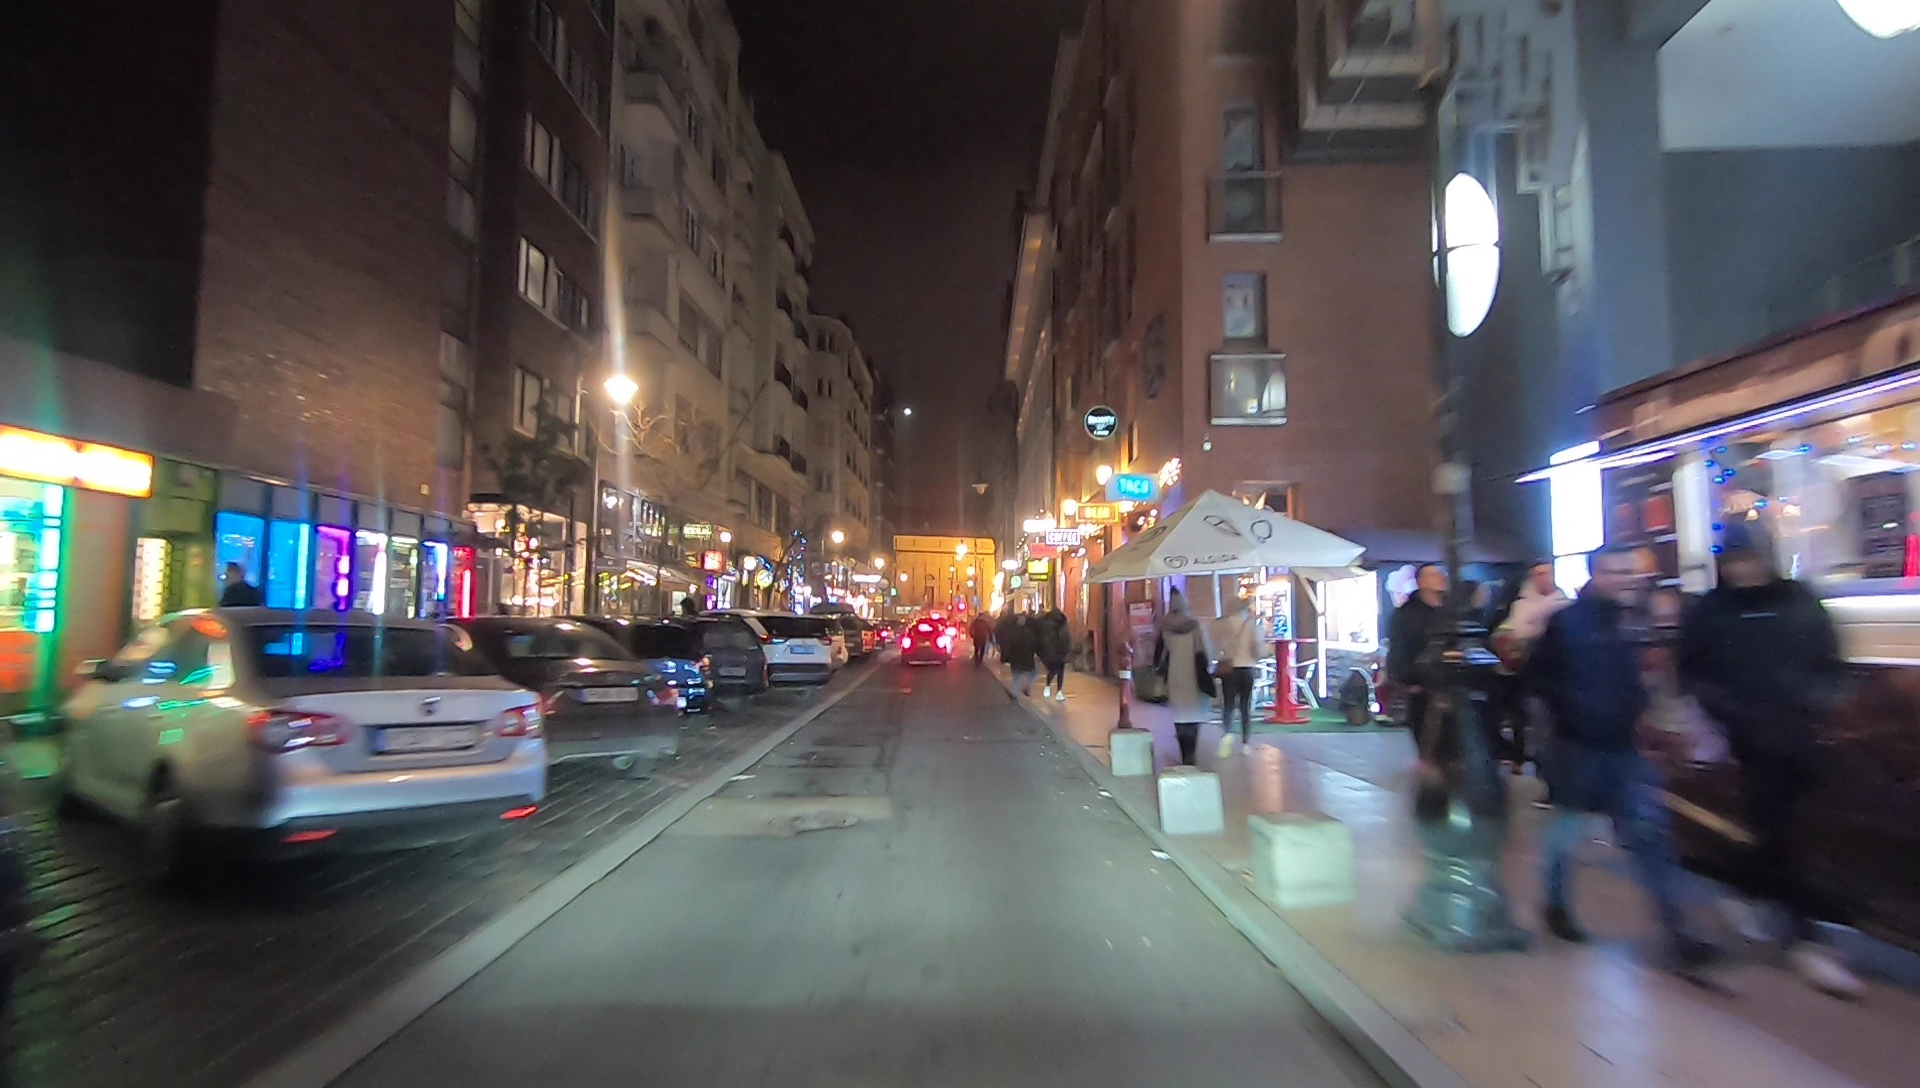person: (1699, 543, 1878, 991), (1532, 552, 1717, 978), (1482, 547, 1580, 847), (1401, 561, 1458, 791), (1152, 587, 1215, 765), (1217, 580, 1264, 758), (1045, 606, 1073, 704), (1008, 619, 1035, 700), (969, 612, 990, 663)
